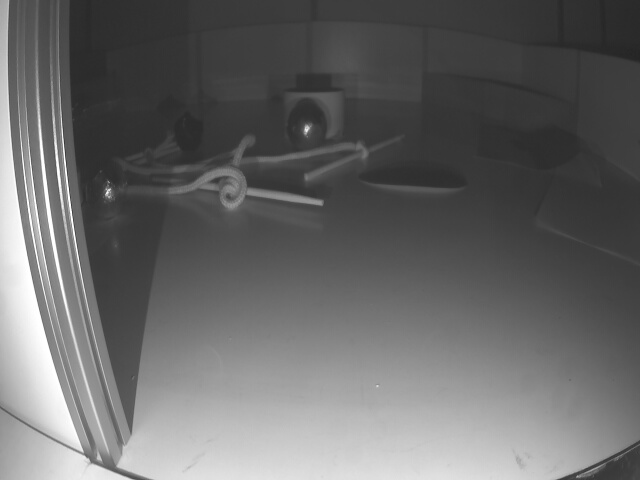Dead: (174, 112, 206, 149)
Live: (86, 164, 130, 213), (288, 105, 330, 150)
Point: (422, 62, 570, 141)
